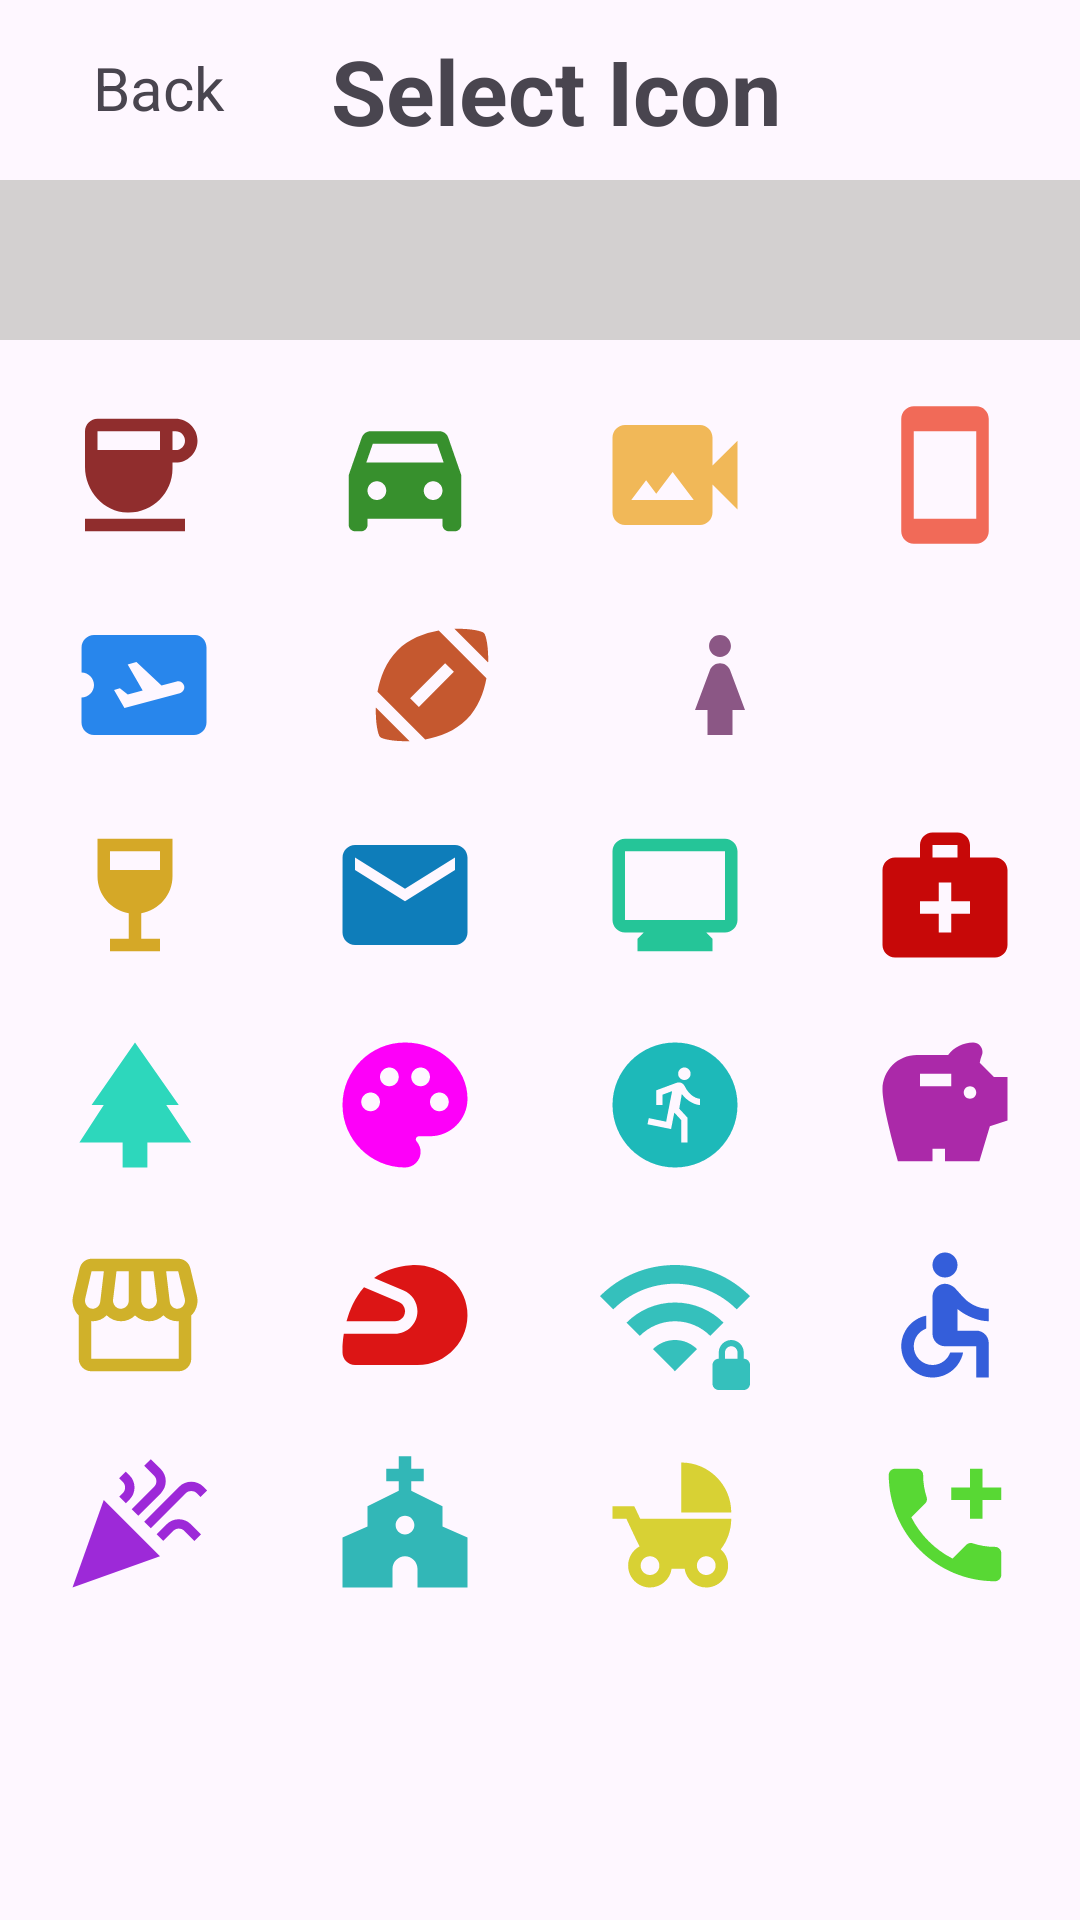

Named icons in this screenshot (1080*1920) and their centers, (x=x, y=y):
accessible: (x=945, y=1315)
airplane: (x=144, y=685)
bar: (x=135, y=895)
call: (x=945, y=1525)
car: (x=405, y=481)
celebration: (x=139, y=1523)
child: (x=672, y=1525)
church: (x=405, y=1522)
coffee: (x=141, y=475)
football: (x=432, y=685)
girl: (x=720, y=685)
medical: (x=945, y=895)
monitor: (x=675, y=895)
motorsports: (x=405, y=1315)
palette: (x=405, y=1105)
park: (x=135, y=1105)
post: (x=405, y=895)
run: (x=675, y=1105)
savings: (x=945, y=1102)
smartphone: (x=945, y=475)
storefront: (x=135, y=1315)
video: (x=675, y=475)
wifi: (x=675, y=1327)
